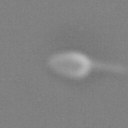normal: (92, 60, 128, 75)
